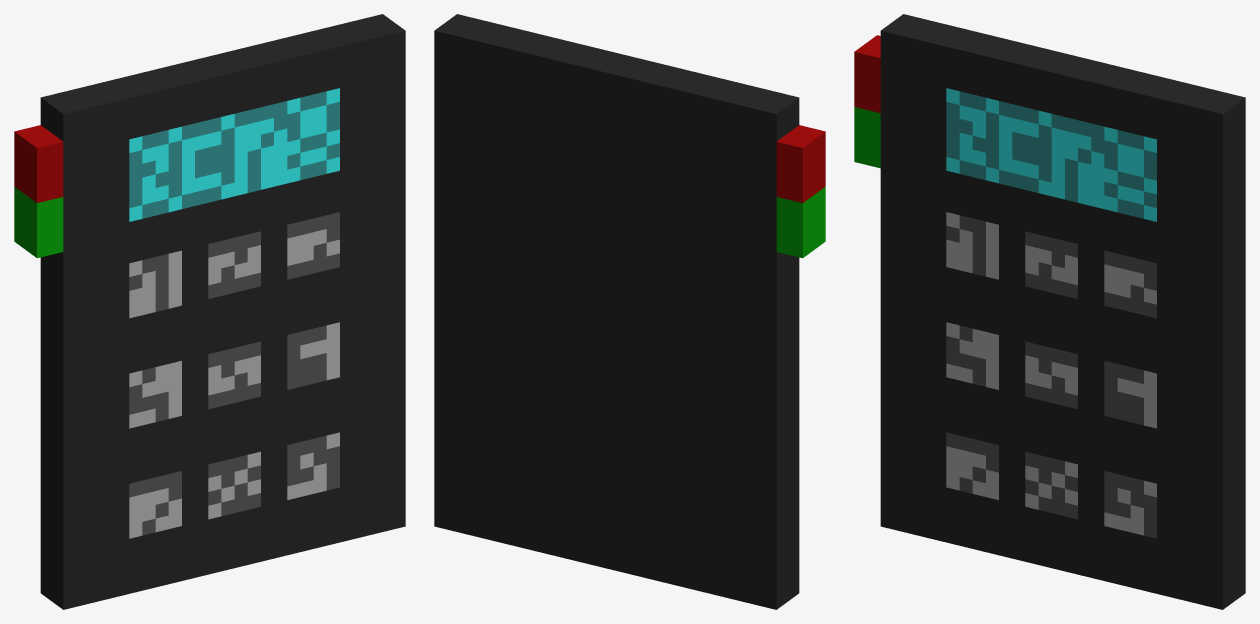
Rendered from securityPanel.obj.
3 renders of one model, left to right at view 1: azimuth 30°, elevation 25°; view 2: azimuth 150°, elevation 25°; view 3: azimuth 330°, elevation 25°, orthographic.
Size of the model in its own units: 2.8 by 3.6 by 0.3.
Materials: 1 (1 with a texture image).
